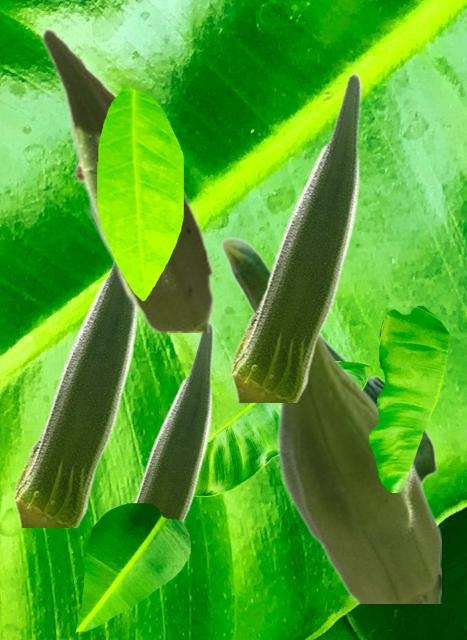okra: (220, 236, 437, 483), (40, 26, 212, 331), (276, 334, 440, 602), (230, 71, 361, 401), (13, 261, 139, 526), (133, 322, 213, 522)
